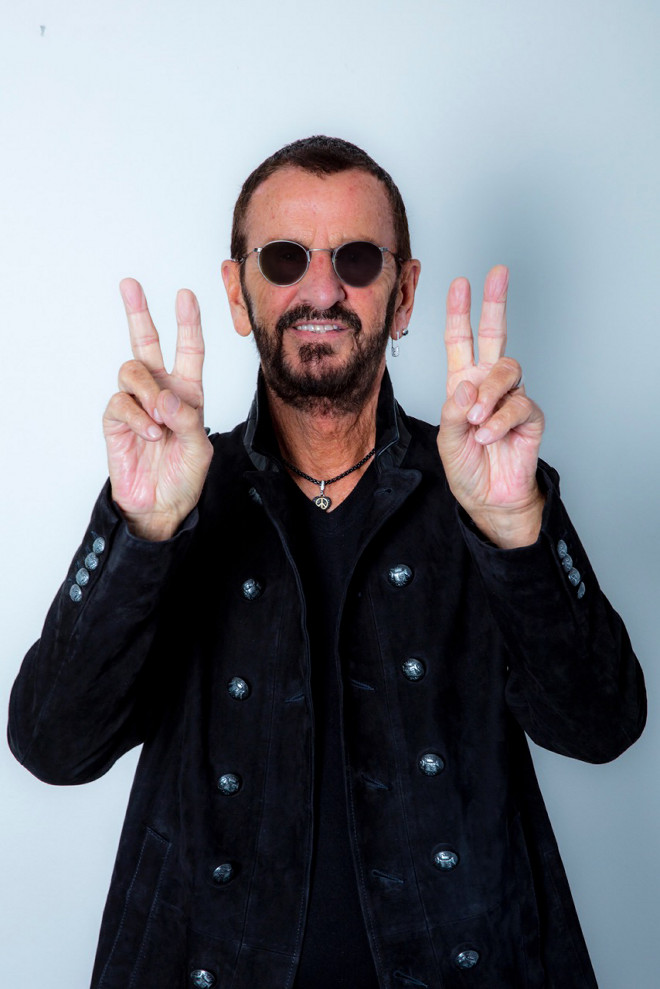face: (221, 136, 421, 412)
hand: (429, 263, 546, 512), (101, 275, 217, 517)
